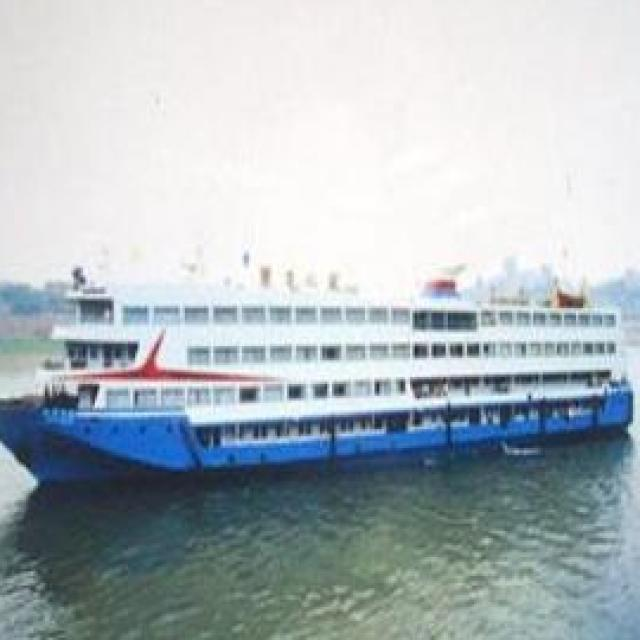passenger ship: (0, 251, 635, 474)
